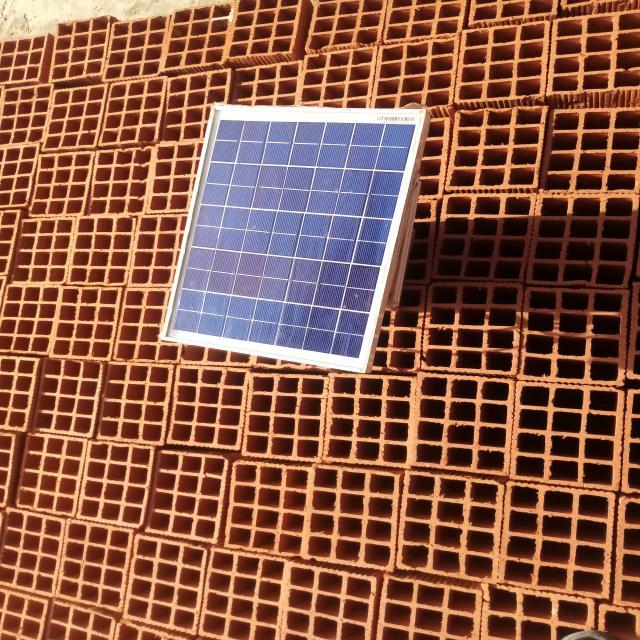no faulty: (162, 107, 424, 373)
